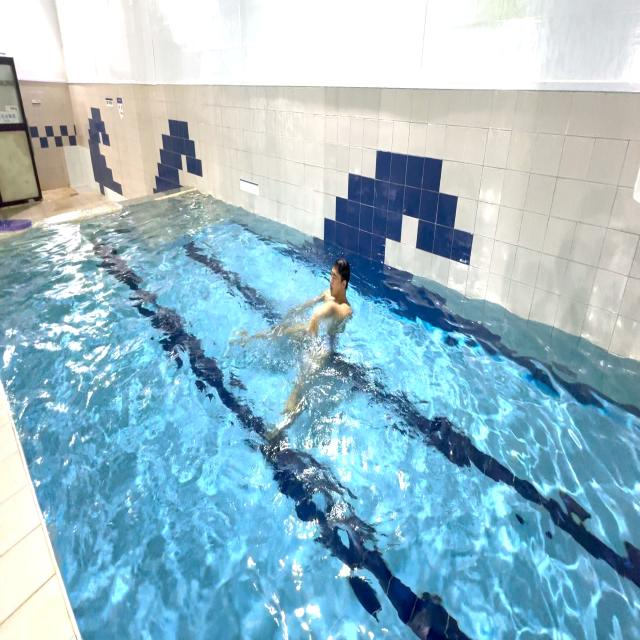Drowning: (273, 239, 377, 389)
